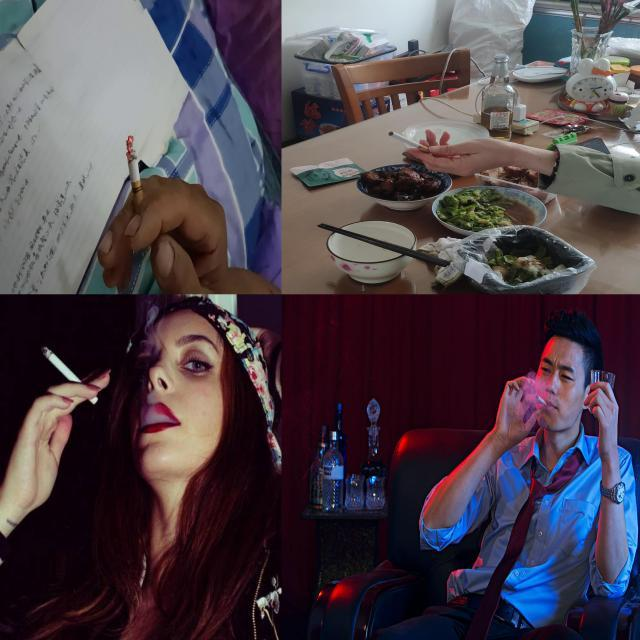smoke: (35, 344, 98, 407), (126, 134, 148, 233), (388, 132, 433, 154), (533, 388, 548, 406)
